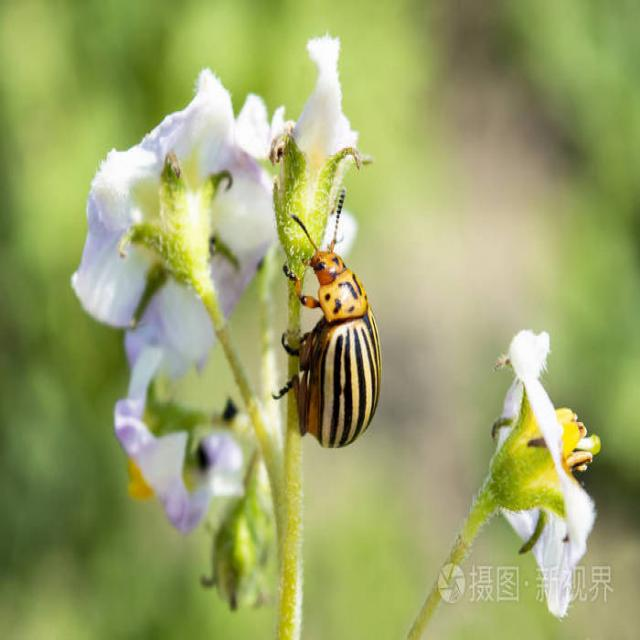ShuCaiHuaBanChong-Grown-: (284, 228, 395, 480)
